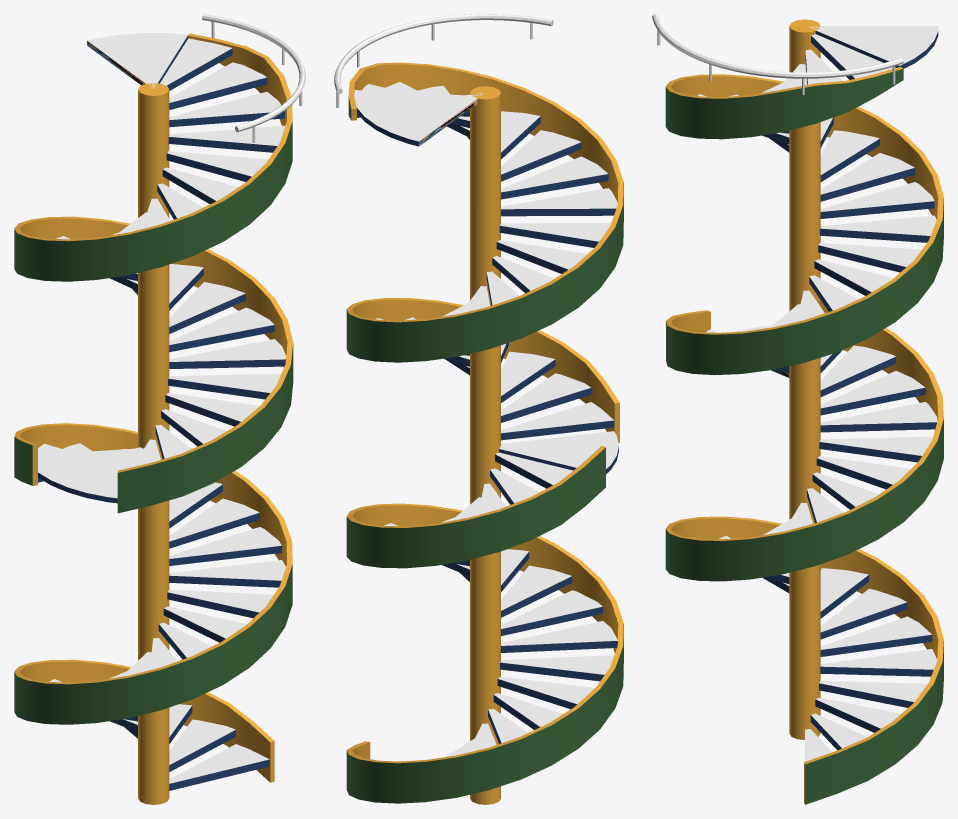
The picture shows the model from 3 angles, left to right: view 1: azimuth 30°, elevation 25°; view 2: azimuth 150°, elevation 25°; view 3: azimuth 270°, elevation 25°; orthographic projection.
Parts seen in each view (by area): view 1: 台阶, 围栏, 围栏1, 中心柱子, 护栏; view 2: 台阶, 围栏1, 围栏, 中心柱子, 护栏; view 3: 台阶, 围栏, 围栏1, 中心柱子, 护栏.
Part boxes in pixels (x1=…): 台阶: x1=38, y1=33, x2=286, y2=790; 围栏: x1=14, y1=33, x2=293, y2=513; 围栏1: x1=14, y1=423, x2=292, y2=782; 中心柱子: x1=138, y1=83, x2=169, y2=804; 护栏: x1=202, y1=14, x2=305, y2=142; 台阶: x1=354, y1=82, x2=618, y2=756; 围栏1: x1=346, y1=446, x2=623, y2=803; 围栏: x1=346, y1=62, x2=623, y2=442; 中心柱子: x1=470, y1=86, x2=500, y2=804; 护栏: x1=334, y1=14, x2=553, y2=108; 台阶: x1=692, y1=26, x2=938, y2=761; 围栏: x1=665, y1=66, x2=943, y2=375; 围栏1: x1=665, y1=300, x2=943, y2=804; 中心柱子: x1=789, y1=19, x2=820, y2=739; 护栏: x1=652, y1=14, x2=903, y2=95.
Size of the model in its own units: 261 by 728 by 262.
Materials: 1 (1 with a texture image).
